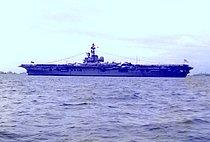MIL_Ship: (18, 42, 192, 79)
